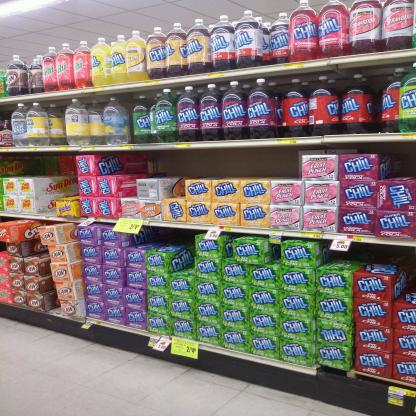Void: (141, 152, 300, 176), (328, 247, 411, 270), (29, 155, 76, 175), (146, 228, 192, 247), (387, 141, 411, 175), (396, 274, 412, 300)
